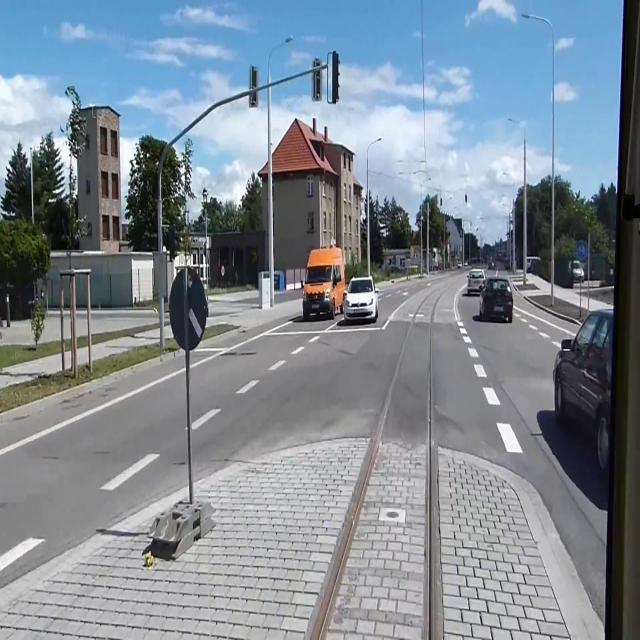rail: (277, 264, 481, 640)
